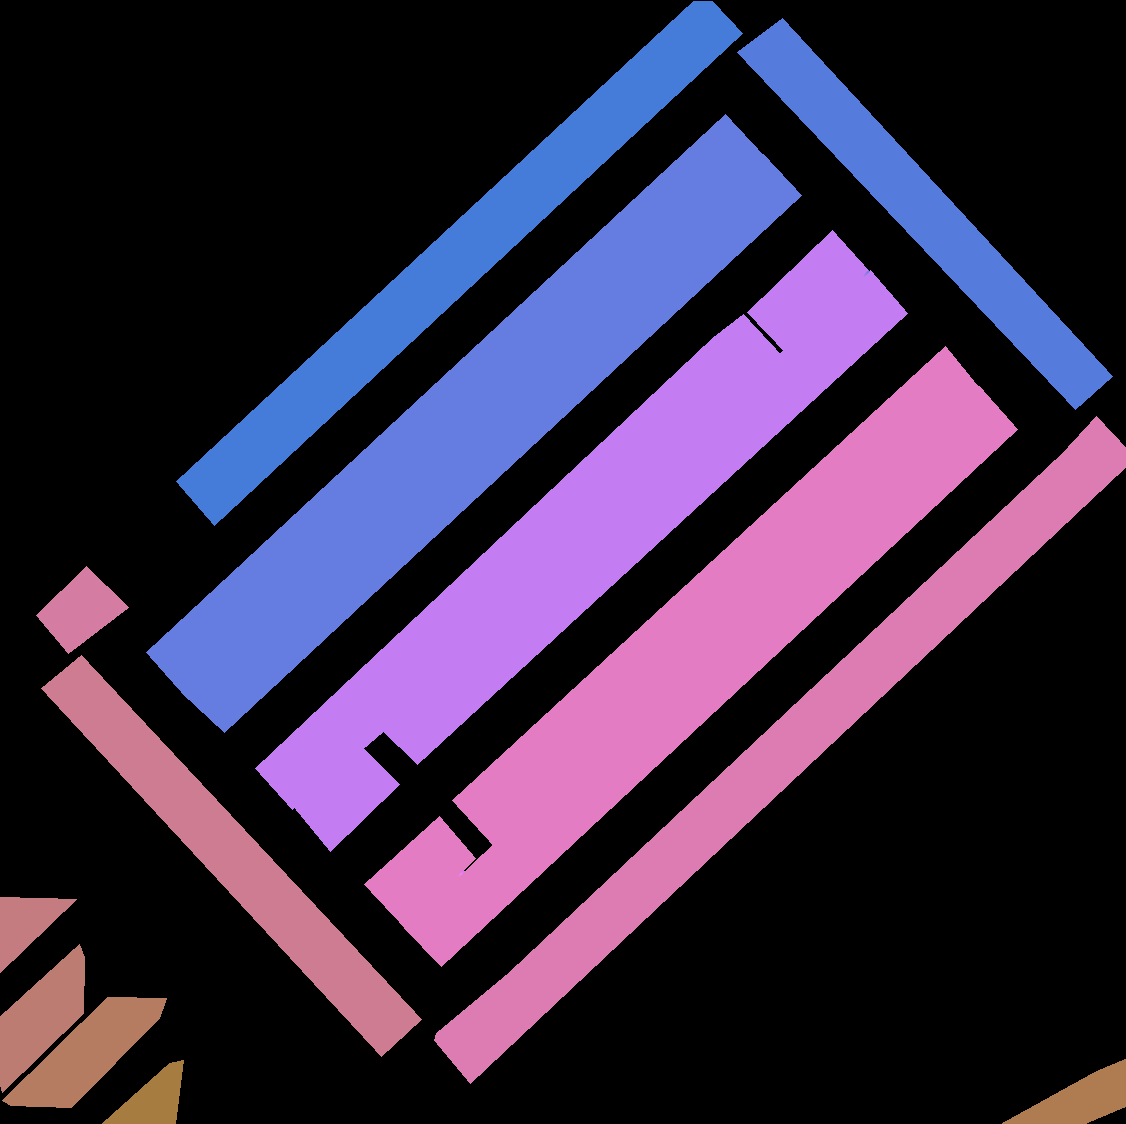parkingspot: (434, 416, 1126, 1083), (146, 114, 763, 696), (181, 154, 801, 732), (404, 386, 1017, 965), (176, 1, 742, 525), (452, 346, 980, 846), (255, 314, 781, 809), (381, 270, 907, 764), (41, 655, 421, 1056), (737, 17, 1112, 409), (2, 997, 166, 1107), (747, 230, 868, 353), (364, 816, 476, 929), (0, 944, 84, 1092), (294, 747, 399, 851), (1001, 1059, 1126, 1124), (36, 566, 128, 653), (0, 897, 76, 972), (102, 1060, 183, 1123)
